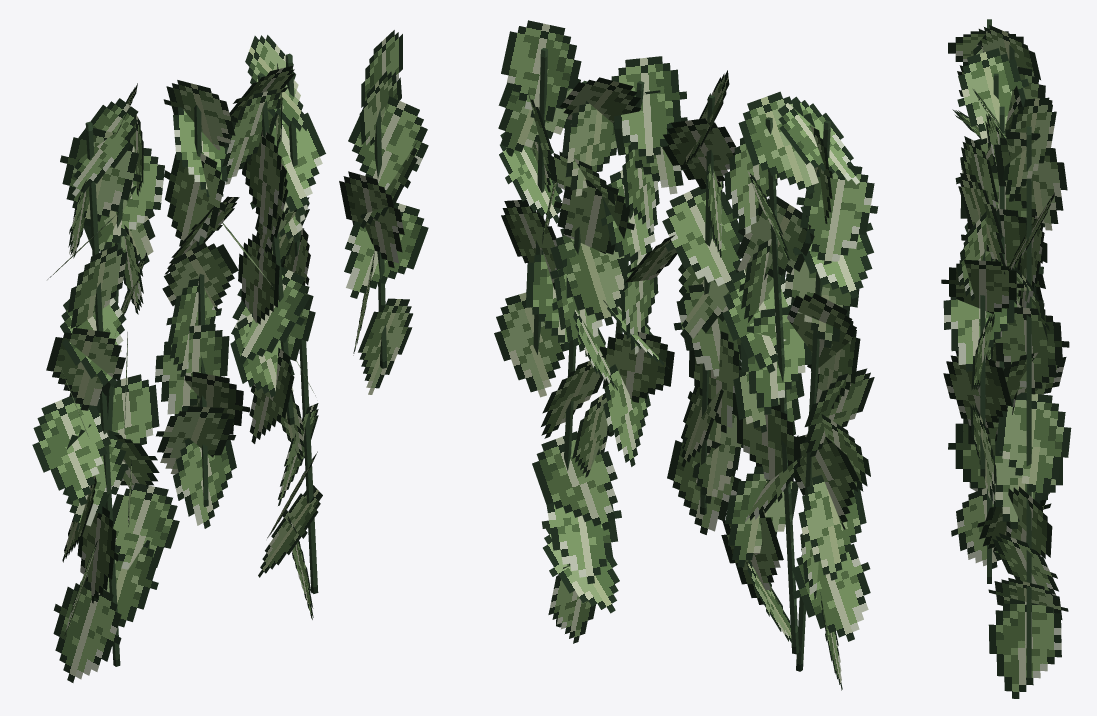
The model's file is ivy.glb.
3 renders of one model, left to right at view 1: azimuth 30°, elevation 25°; view 2: azimuth 150°, elevation 25°; view 3: azimuth 270°, elevation 25°, orthographic.
Visible parts, largest first — view 1: leaf_8, leaf_13, leaf_25, leaf_6, leaf_61, leaf_33, leaf_29, leaf_64, leaf_36, leaf_63, leaf_1, leaf_43 (+44 smaller); view 2: leaf_59, leaf_55, leaf_30, leaf_2, leaf_37, leaf_50, leaf_12, leaf_66, leaf_14, leaf_10, leaf_20, leaf_56 (+57 smaller); view 3: leaf_53, leaf_58, leaf_27, leaf_51, leaf_47, vine_4, leaf_65, leaf_46, leaf_62, leaf_63, leaf_13, leaf_56 (+25 smaller).
Part boxes in pixels (x1,y1,x2,y2): leaf_8: [32, 396, 111, 505]; leaf_13: [53, 580, 121, 682]; leaf_25: [112, 483, 179, 569]; leaf_6: [46, 328, 125, 410]; leaf_61: [348, 96, 428, 191]; leaf_33: [155, 324, 229, 416]; leaf_29: [164, 153, 226, 246]; leaf_64: [344, 202, 428, 298]; leaf_36: [173, 438, 236, 528]; leaf_63: [339, 171, 404, 267]; leaf_1: [60, 128, 141, 226]; leaf_43: [231, 266, 309, 364]; leaf_59: [501, 20, 581, 125]; leaf_55: [532, 431, 617, 530]; leaf_30: [662, 186, 743, 289]; leaf_2: [796, 165, 878, 264]; leaf_37: [611, 56, 686, 163]; leaf_50: [550, 228, 627, 325]; leaf_12: [792, 544, 870, 641]; leaf_66: [494, 292, 568, 397]; leaf_14: [738, 91, 818, 194]; leaf_10: [798, 475, 866, 580]; leaf_20: [740, 306, 811, 414]; leaf_56: [542, 502, 621, 583]; leaf_53: [996, 392, 1071, 500]; leaf_58: [988, 598, 1061, 698]; leaf_27: [957, 48, 1029, 139]; leaf_51: [994, 307, 1069, 394]; leaf_47: [994, 131, 1067, 230]; vine_4: [1026, 126, 1031, 684]; leaf_65: [943, 350, 1012, 433]; leaf_46: [1002, 97, 1056, 201]; leaf_62: [941, 259, 1023, 314]; leaf_63: [943, 297, 1014, 371]; leaf_13: [951, 488, 1001, 568]; leaf_56: [992, 533, 1058, 595].
Size of the model in its own units: 1.32 by 1.81 by 0.4217.
2 materials, 2 textured.
